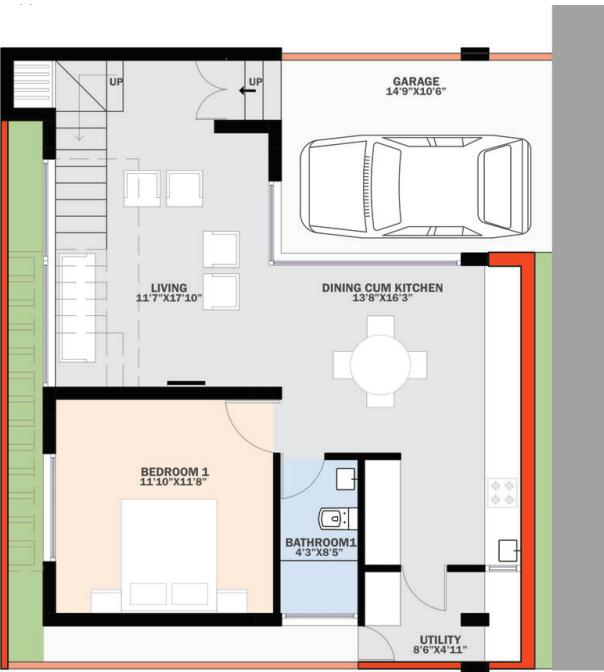Bed: (115, 490, 222, 615)
Bedroom: (50, 402, 276, 618)
Dining Room: (282, 267, 445, 450)
Dining table: (319, 310, 433, 414)
Kitchen: (390, 270, 527, 569)
Living Room: (57, 57, 279, 393)
Sofa: (199, 227, 244, 313), (123, 172, 206, 206)
door: (224, 401, 277, 453), (276, 455, 327, 503), (403, 569, 444, 611), (359, 626, 402, 662)
garage: (280, 60, 550, 252)
kitchen-slab: (486, 271, 524, 662)
sink: (497, 539, 518, 565)
stove: (486, 476, 520, 511)
toilet: (280, 457, 362, 625)
utility: (367, 575, 516, 661)
